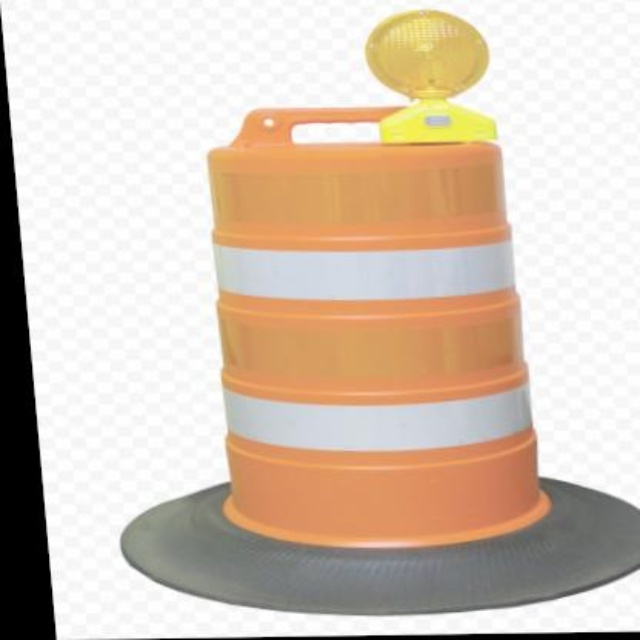obstacle: (151, 92, 560, 556)
